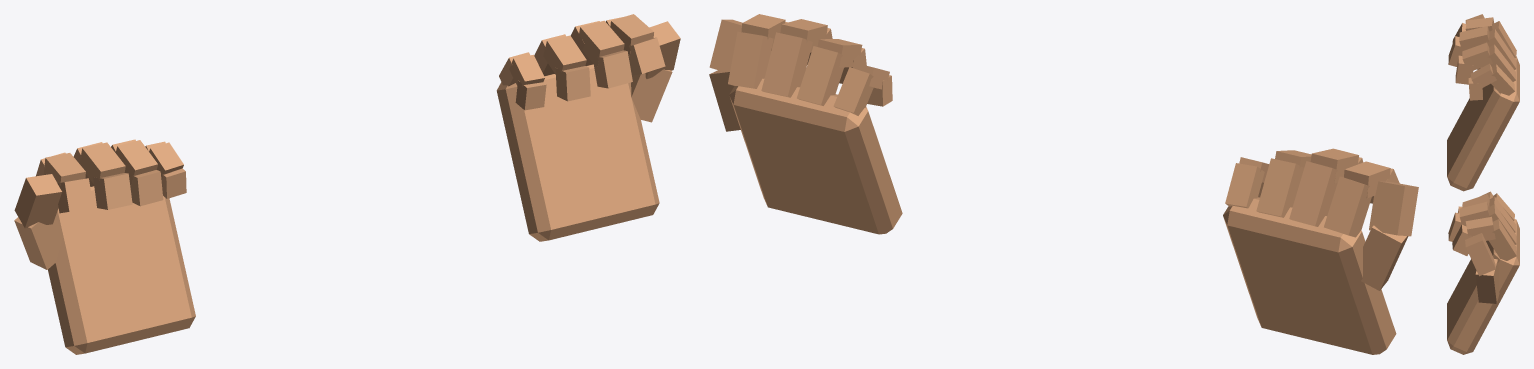
File: hands_simple_grip.glb
The picture shows the model from 3 angles, left to right: view 1: azimuth 30°, elevation 25°; view 2: azimuth 150°, elevation 25°; view 3: azimuth 270°, elevation 25°; orthographic projection. The views are drawn at different scales.
Visible parts, largest first — view 1: RightPalm, LeftPalm, LeftThumb2, LeftThumb1, RightThumb1, RightMiddle2, LeftMiddle2, LeftMiddle3, RightMiddle3, RightRing2, RightRing3, LeftRing2 (+10 smaller); view 2: RightPalm, LeftPalm, RightMiddle1, LeftThumb2, LeftMiddle1, LeftIndex1, RightIndex1, LeftRing1, RightRing1, LeftThumb1, RightPinky1, LeftPinky1 (+7 smaller); view 3: LeftPalm, RightPalm, RightThumb2, RightThumb1, RightIndex1, LeftRing2, LeftMiddle2, RightIndex2, RightMiddle2, LeftPinky1, LeftRing1, LeftMiddle1 (+13 smaller).
Boxes of the visible parts, x1,y1,x2,y2 form: RightPalm: (496,64,659,241); LeftPalm: (48,186,195,354); LeftThumb2: (14,174,61,228); LeftThumb1: (14,216,63,269); RightThumb1: (631,69,672,122); RightMiddle2: (578,20,624,67); LeftMiddle2: (79,142,125,183); LeftMiddle3: (93,173,132,209); RightMiddle3: (593,50,632,88); RightRing2: (543,35,586,74); RightRing3: (555,66,590,101); LeftRing2: (115,140,157,185); RightPalm: (729,78,902,234); LeftPalm: (1223,197,1396,354); RightMiddle1: (761,32,812,97); LeftThumb2: (1369,181,1418,236); LeftMiddle1: (1289,161,1337,226); LeftIndex1: (1324,176,1371,237); RightIndex1: (728,31,773,88); LeftRing1: (1256,158,1304,217); RightRing1: (797,46,843,105); LeftThumb1: (1361,225,1408,290); RightPinky1: (833,67,873,115); LeftPinky1: (1225,163,1264,208); LeftPalm: (1447,56,1519,191); RightPalm: (1447,219,1519,354); RightThumb2: (1465,233,1495,276); RightThumb1: (1475,259,1499,303); RightIndex1: (1488,219,1516,260); LeftRing2: (1462,42,1492,70); LeftMiddle2: (1459,26,1489,51); RightIndex2: (1465,216,1495,240); RightMiddle2: (1459,201,1489,224); LeftPinky1: (1491,64,1514,95); LeftRing1: (1488,44,1515,81); LeftMiddle1: (1483,29,1516,69).
Bounding box in the file's own units: 0.4488 × 0.1247 × 0.0602.
